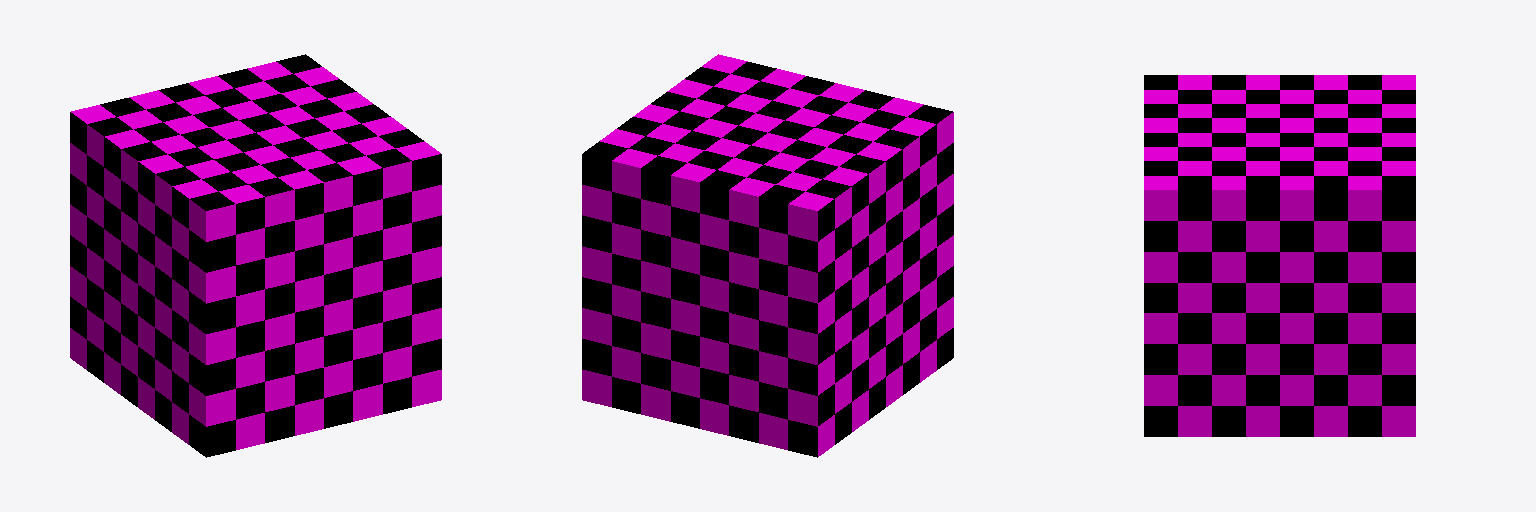
3 views of the same model, side by side, from view 1: azimuth 30°, elevation 25°; view 2: azimuth 150°, elevation 25°; view 3: azimuth 270°, elevation 25° (orthographic).
Parts seen in each view (by area): view 1: Cube; view 2: Cube; view 3: Cube.
Part boxes in pixels (x1,y1,x2,y2): Cube: (70,54,441,457); Cube: (582,54,953,457); Cube: (1144,75,1415,436).
Bounding box in the file's own units: 2 × 2 × 2.
1 materials, 1 textured.